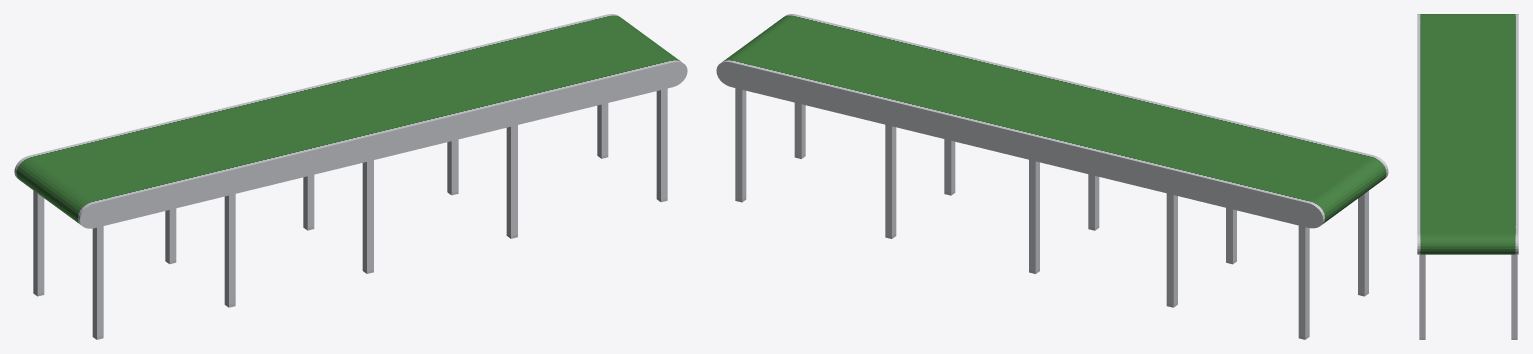
The model's file is yiyinxian.fbx.
3 views of the same model, side by side, from view 1: azimuth 30°, elevation 25°; view 2: azimuth 150°, elevation 25°; view 3: azimuth 270°, elevation 25° (orthographic). The views are drawn at different scales.
Parts seen in each view (by area): view 1: Line002; view 2: Line002; view 3: Line002.
Boxes of the visible parts, x1,y1,x2,y2 form: Line002: (14,14,687,339); Line002: (716,14,1388,339); Line002: (1417,14,1518,339).
Size of the model in its own units: 108 by 23.44 by 20.14.
Materials: 1 (1 with a texture image).
